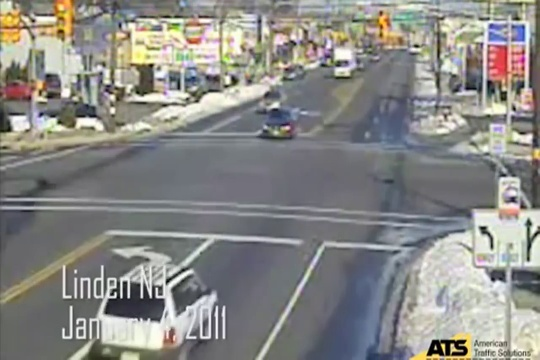car: (99, 260, 222, 360), (264, 110, 303, 141), (251, 85, 290, 113), (333, 49, 363, 79)
